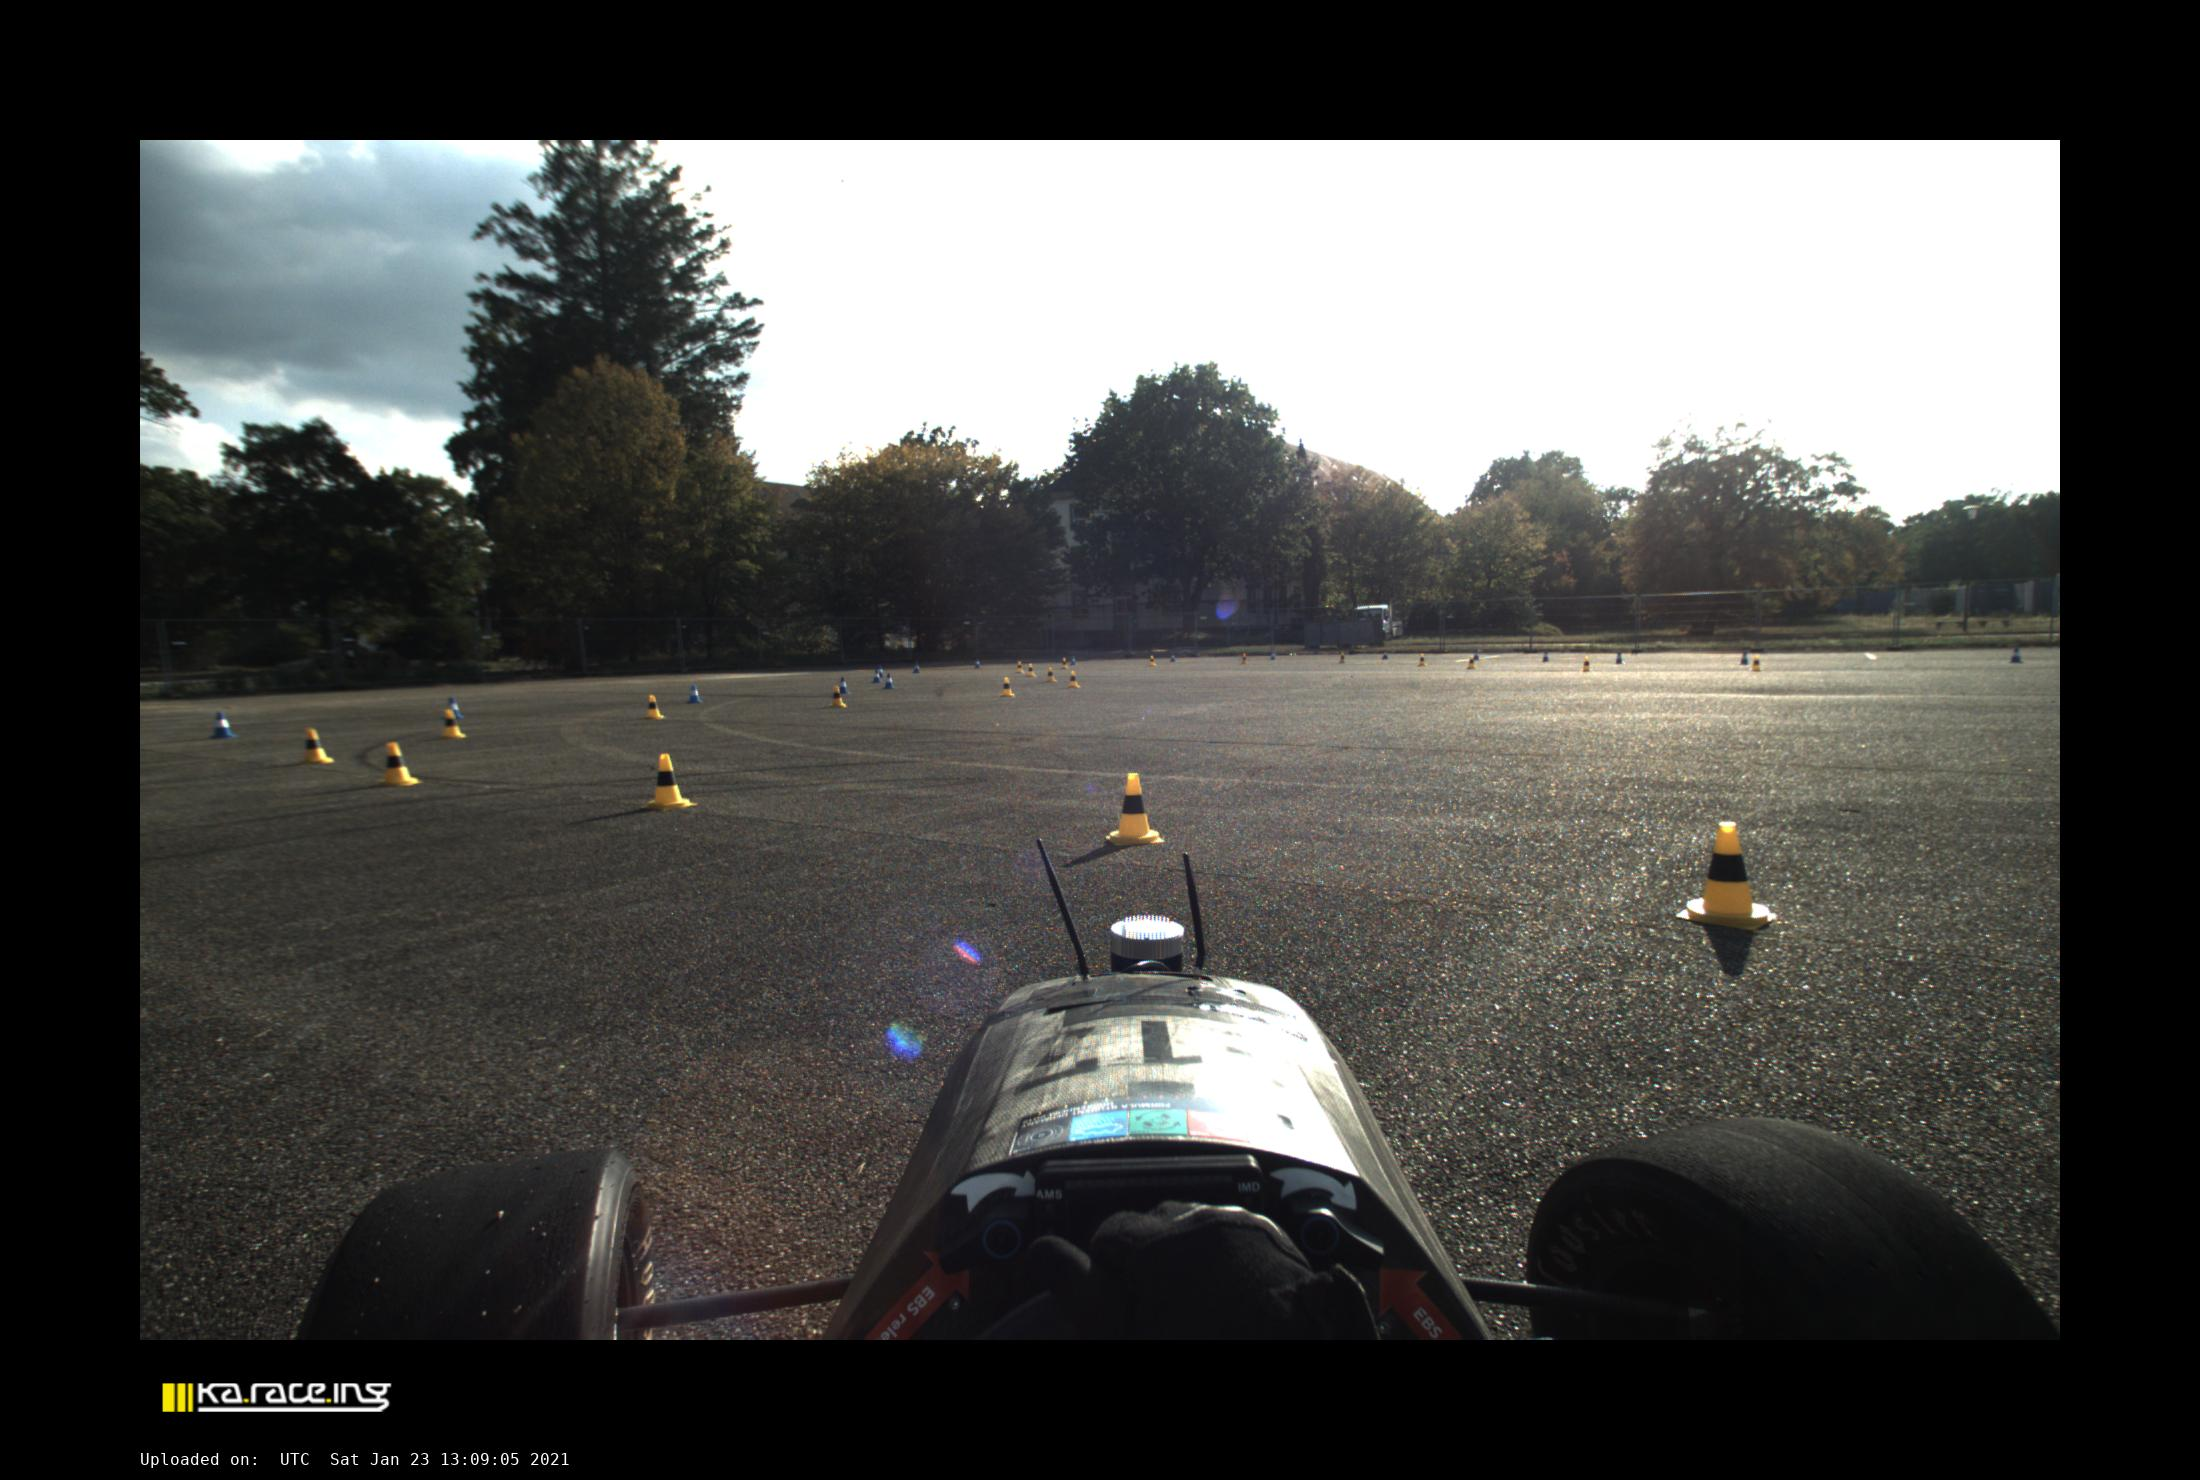blue_cone: (210, 710, 236, 737), (448, 695, 466, 719), (687, 685, 702, 704), (2008, 647, 2023, 662), (884, 672, 895, 689), (839, 677, 851, 694), (870, 669, 882, 682), (1739, 651, 1749, 666), (1614, 652, 1625, 664), (1541, 651, 1551, 662), (973, 657, 983, 669), (913, 661, 920, 672), (877, 666, 884, 677), (1270, 651, 1277, 661), (1169, 652, 1176, 662), (1070, 656, 1077, 666), (1473, 649, 1478, 661), (1382, 649, 1387, 659)
yellow_cone: (1676, 823, 1777, 932), (1107, 775, 1164, 846), (647, 753, 697, 808), (383, 742, 421, 786), (302, 727, 334, 765), (443, 709, 467, 738), (646, 694, 666, 720), (831, 685, 847, 709), (1001, 677, 1014, 695), (1067, 671, 1080, 689), (1581, 656, 1592, 672), (1045, 667, 1057, 682), (1751, 656, 1762, 671), (1014, 661, 1026, 674), (1467, 656, 1477, 671), (1026, 662, 1036, 676), (1417, 652, 1425, 667), (1060, 657, 1069, 671), (1148, 656, 1158, 666), (1240, 652, 1249, 664), (1338, 651, 1344, 664)
